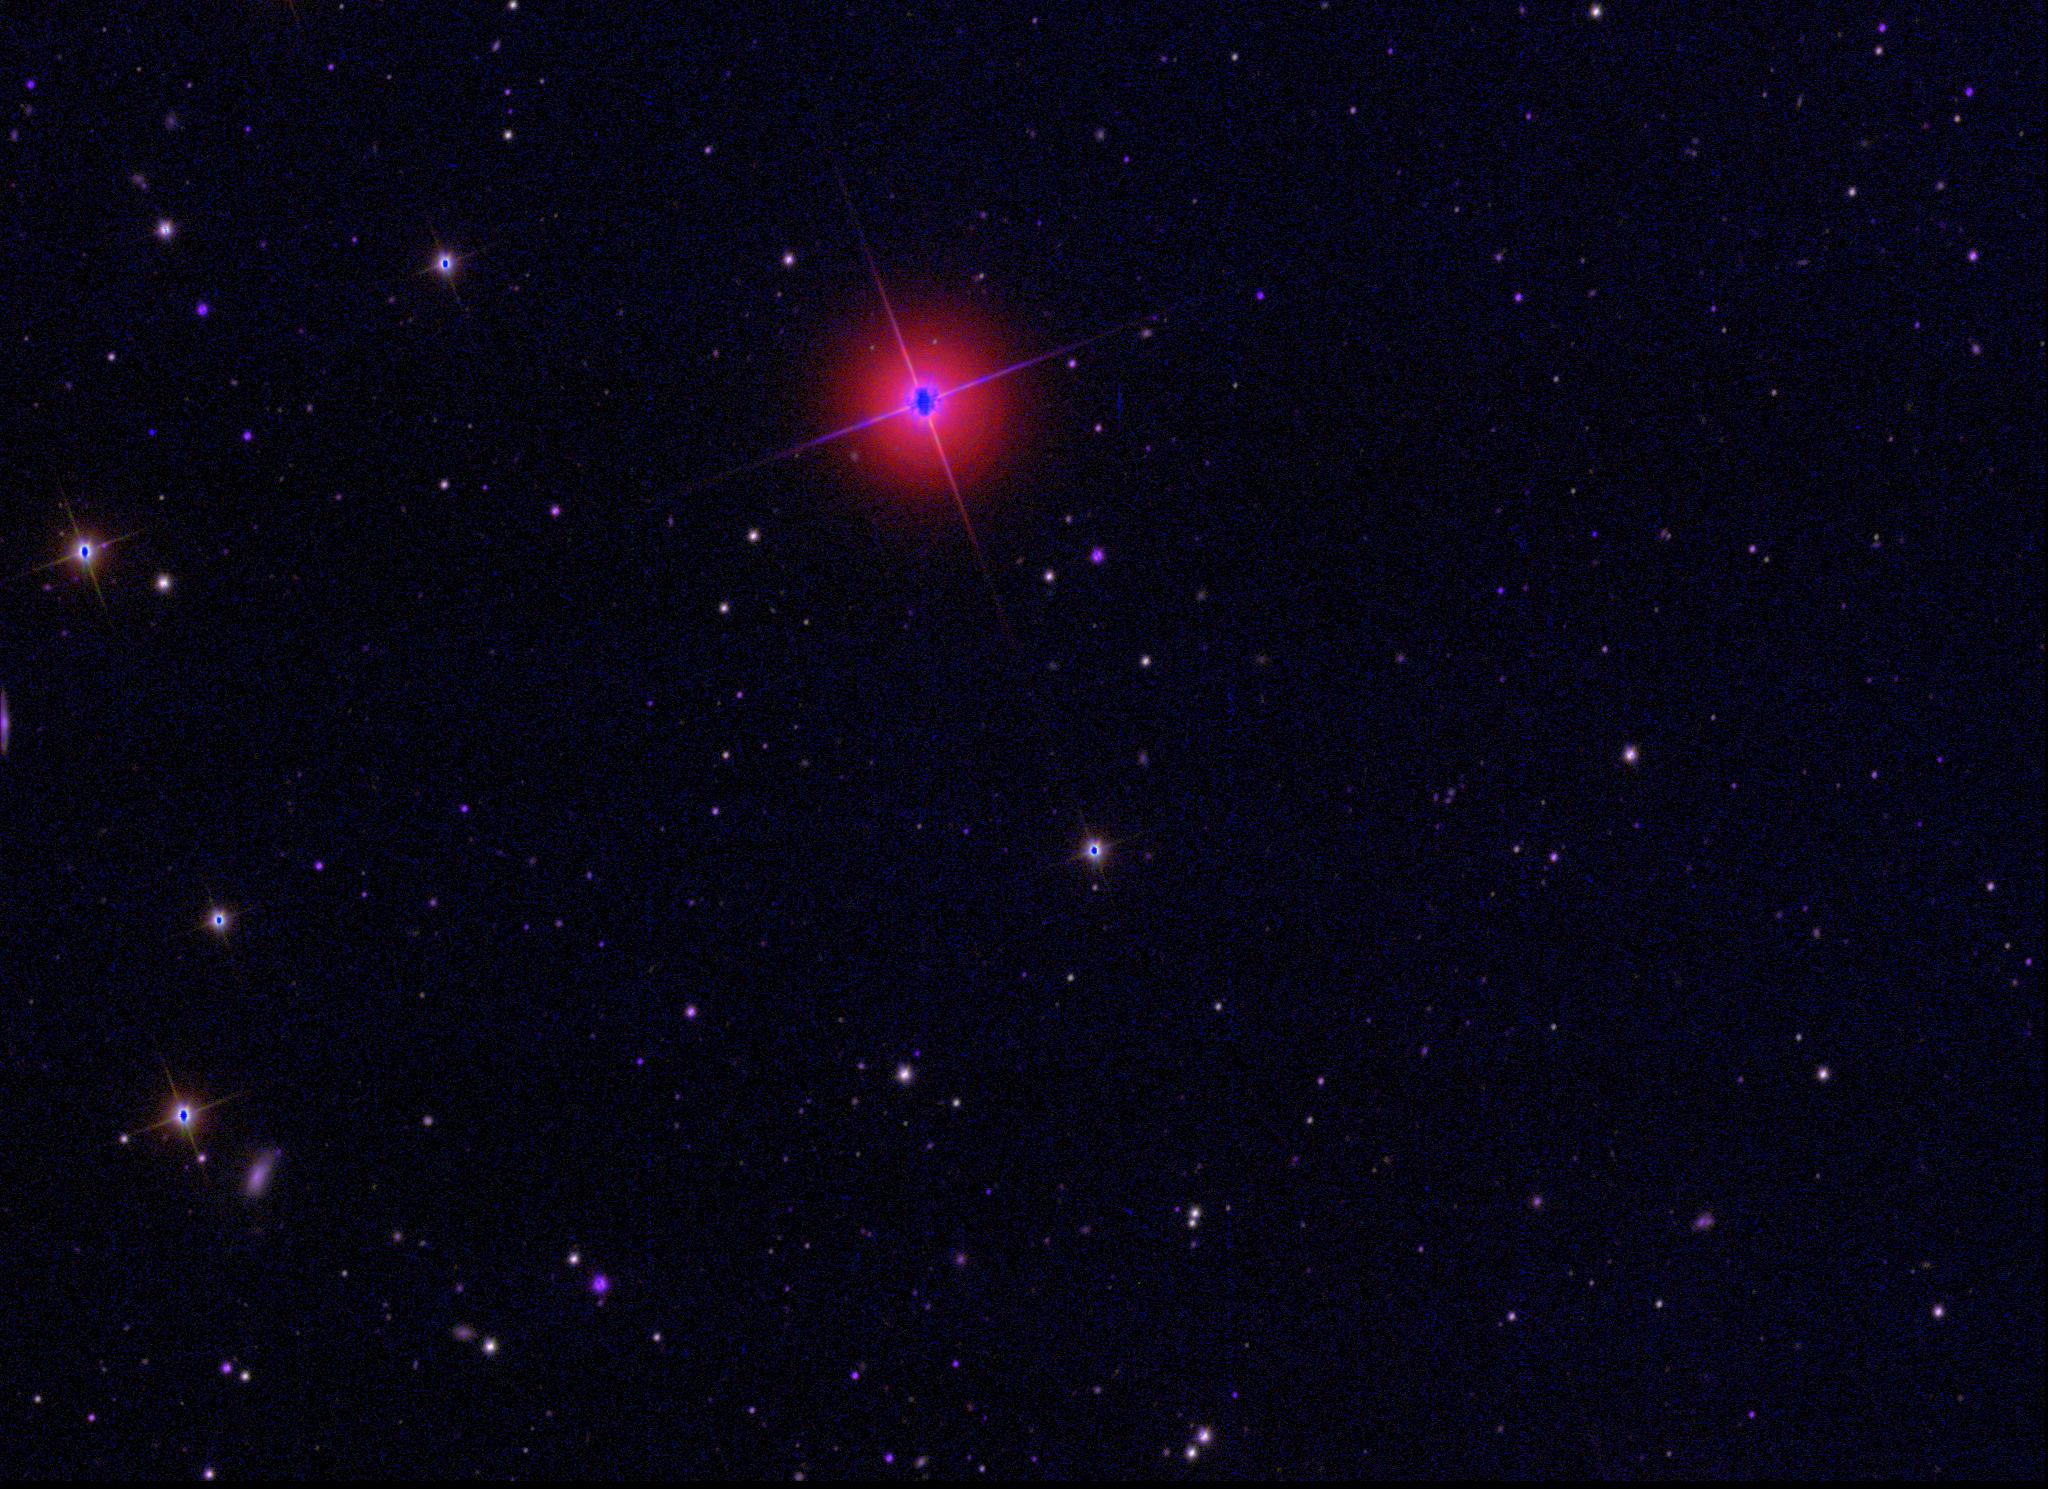L: (145, 425, 159, 439)
